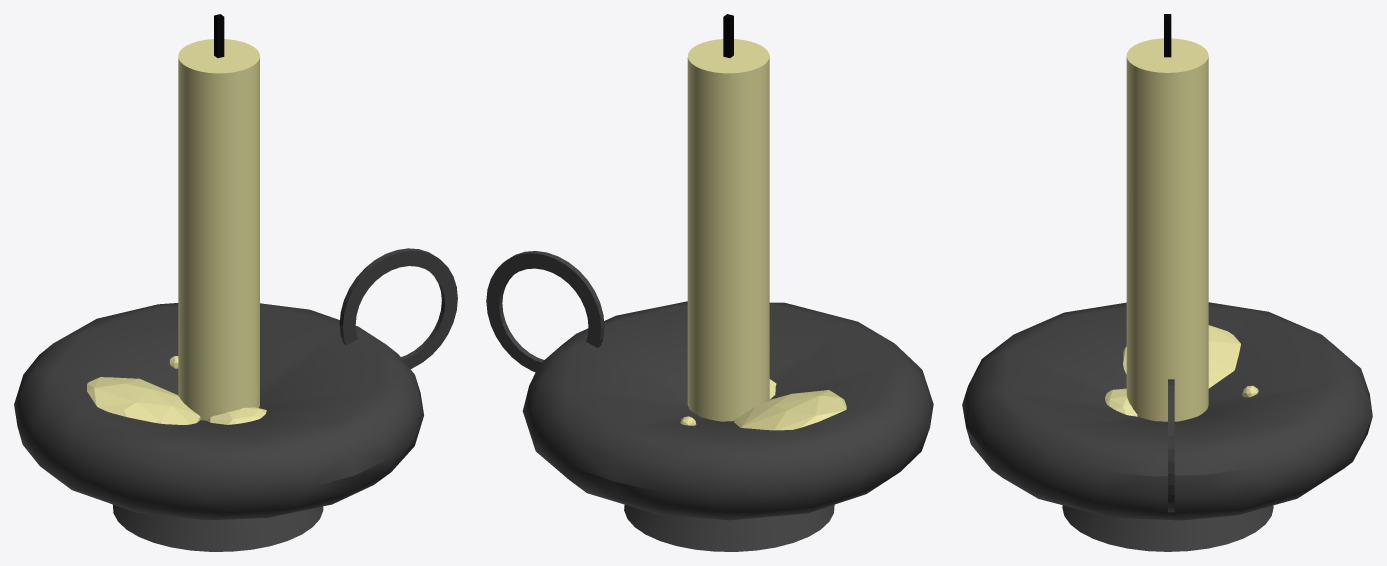
Rendered from candela.fbx.
The picture shows the model from 3 angles, left to right: view 1: azimuth 30°, elevation 25°; view 2: azimuth 150°, elevation 25°; view 3: azimuth 270°, elevation 25°; orthographic projection.
Parts seen in each view (by area): view 1: Cylinder; view 2: Cylinder; view 3: Cylinder.
Boxes of the visible parts, x1,y1,x2,y2 form: Cylinder: (14,14,457,551); Cylinder: (486,14,933,551); Cylinder: (962,14,1372,551).
Bounding box in the file's own units: 11.73 × 13.22 × 10.
